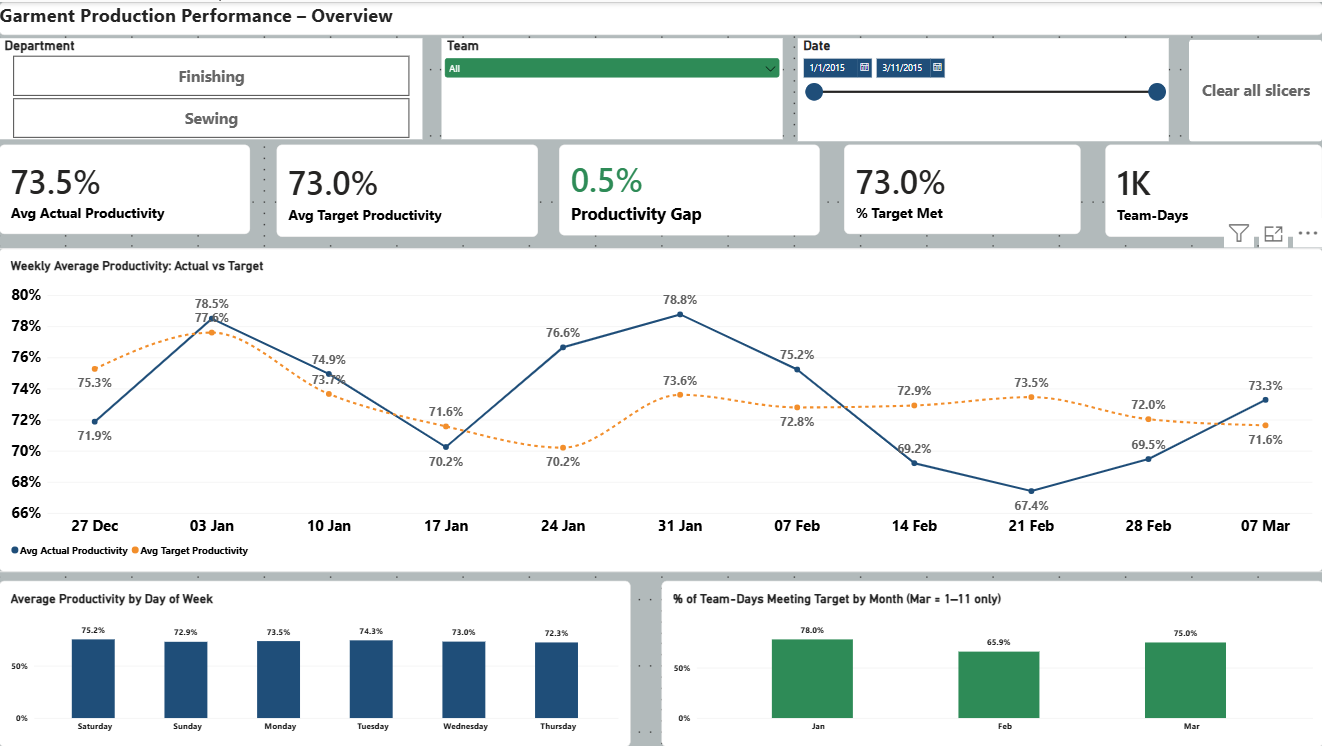

Layout of this report page (visuals, bound fields, positions):
{"tool":"powerbi","page":{"name":"Overview","canvas":[1920,1080],"ordinal":0},"visuals":[{"type":"textbox","box":[0,0,1920.4,48.1],"z":0},{"type":"slicer","fields":{"Values":["Production.department"]},"box":[0,51.9,613.5,146.2],"z":1000},{"type":"slicer","fields":{"Values":["Production.team_name"]},"box":[640.4,51.9,494.2,146.2],"z":2000},{"type":"slicer","fields":{"Values":["DimDate.Date"]},"box":[1157.7,51.9,536.5,148.1],"z":3000},{"type":"cardVisual","fields":{"Data":["_Measures.Avg Actual Productivity"]},"box":[0,207.3,364.8,130],"z":4000},{"type":"cardVisual","fields":{"Data":["_Measures.Productivity Gap"]},"box":[810.9,207.3,378.2,132.7],"z":5000},{"type":"cardVisual","fields":{"Data":["_Measures.% Target Met"]},"box":[1223.6,207.3,343.6,130.9],"z":6000},{"type":"cardVisual","fields":{"Data":["_Measures.Records"]},"box":[1603.6,207.3,316.4,134.5],"z":7000},{"type":"cardVisual","fields":{"Data":["_Measures.Avg Target Productivity"]},"box":[401.8,207.3,380,134.5],"z":8000},{"type":"lineChart","title":"Weekly Average Productivity: Actual vs Target","fields":{"Category":["DimDate.Week Start"],"Y":["_Measures.Avg Actual Productivity","_Measures.Avg Target Productivity"]},"box":[0,357.4,1920.4,468.5],"z":9000},{"type":"clusteredColumnChart","title":"Average Productivity by Day of Week","fields":{"Category":["DimDate.Day of Week"],"Y":["_Measures.Avg Actual Productivity"]},"box":[0,838.9,914.8,240.7],"z":10000},{"type":"clusteredColumnChart","title":"% of Team-Days Meeting Target by Month (Mar = 1–11 only)","fields":{"Category":["DimDate.Month"],"Y":["_Measures.% Target Met"]},"box":[959.3,838.9,961.1,240.7],"z":11000},{"type":"actionButton","box":[1725,53.8,194.2,148.1],"z":12000}]}

Visuals, with their boxes in screenshot pixels (x1, y1, x2, y2), scaled from the page's 1920x1080 canvas onto the 1322x746 screenshot:
textbox: 0,0,1321,33
slicer - Production.department: 0,36,422,137
slicer - Production.team_name: 441,36,781,137
slicer - DimDate.Date: 797,36,1167,138
cardVisual - _Measures.Avg Actual Productivity: 0,143,251,233
cardVisual - _Measures.Productivity Gap: 558,143,819,235
cardVisual - _Measures.% Target Met: 842,143,1079,234
cardVisual - _Measures.Records: 1104,143,1321,236
cardVisual - _Measures.Avg Target Productivity: 277,143,538,236
"Weekly Average Productivity: Actual vs Target" lineChart: 0,247,1321,570
"Average Productivity by Day of Week" clusteredColumnChart: 0,579,630,745
"% of Team-Days Meeting Target by Month (Mar = 1–11 only)" clusteredColumnChart: 661,579,1321,745
actionButton: 1188,37,1321,139
